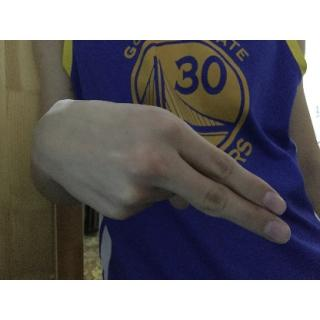AYN: (39, 97, 294, 253)
